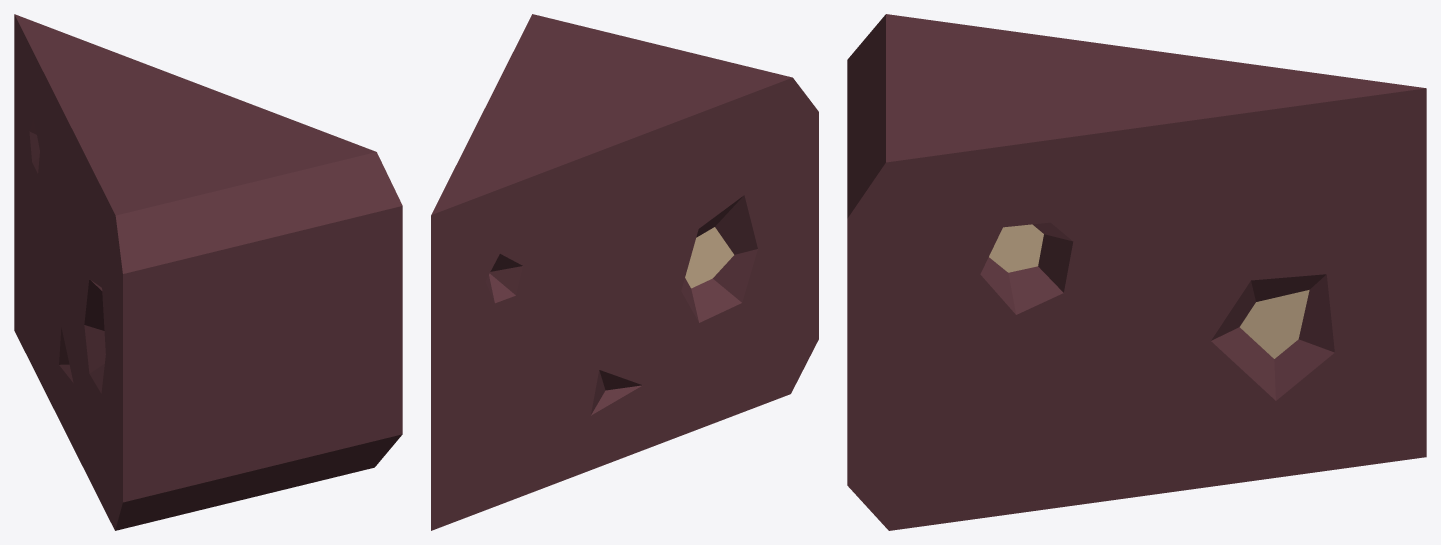
The model's file is food-cheese-slice.glb.
3 views of the same model, side by side, from view 1: azimuth 30°, elevation 25°; view 2: azimuth 150°, elevation 25°; view 3: azimuth 270°, elevation 25° (orthographic). The views are drawn at different scales.
Visible parts, largest first — view 1: cheese-slice; view 2: cheese-slice; view 3: cheese-slice.
Part boxes in pixels (x1,y1,x2,y2): cheese-slice: (14,14,402,530); cheese-slice: (431,14,818,530); cheese-slice: (847,14,1426,530).
Bounding box in the file's own units: 0.1236 × 0.1336 × 0.1902.
